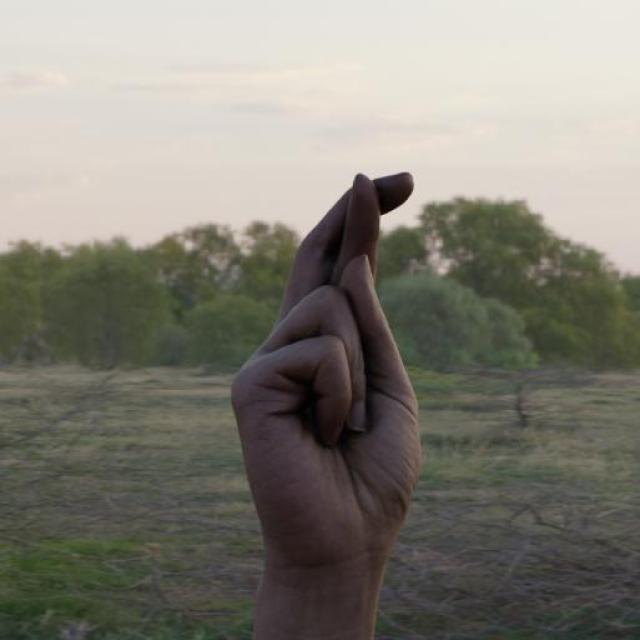R: (221, 166, 430, 584)
